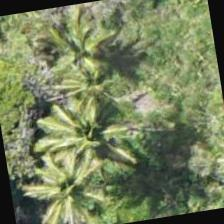Kelapa_Sawit: (36, 72, 139, 176), (37, 0, 141, 100), (18, 135, 122, 223)
